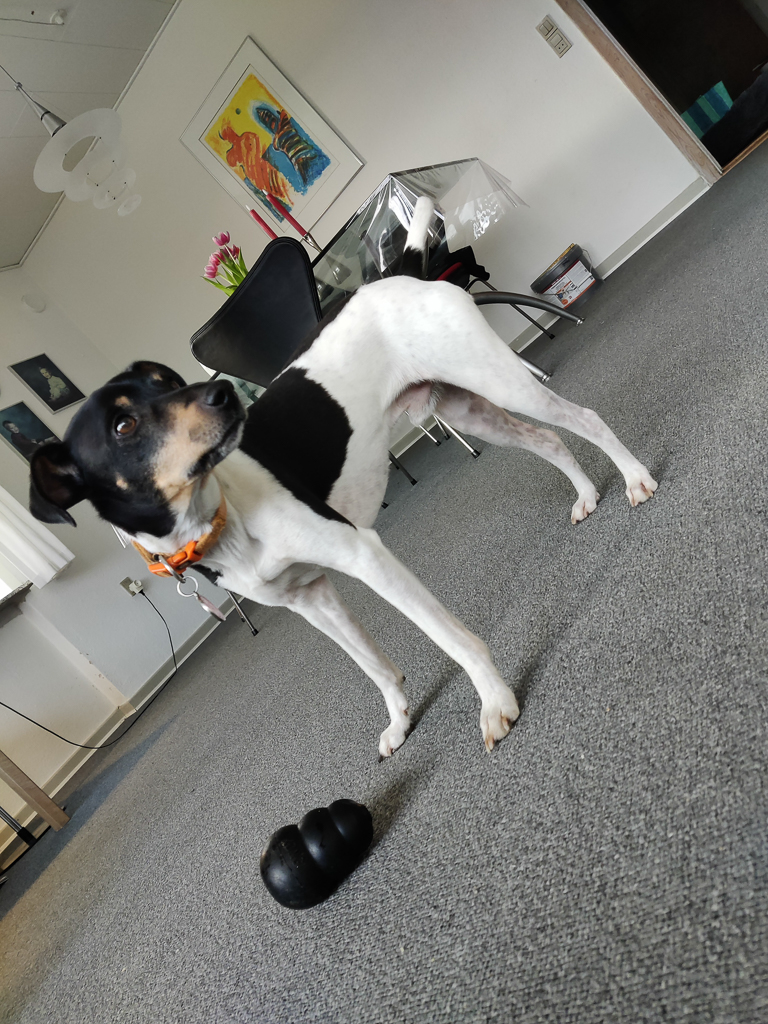Dog: (16, 191, 679, 775)
